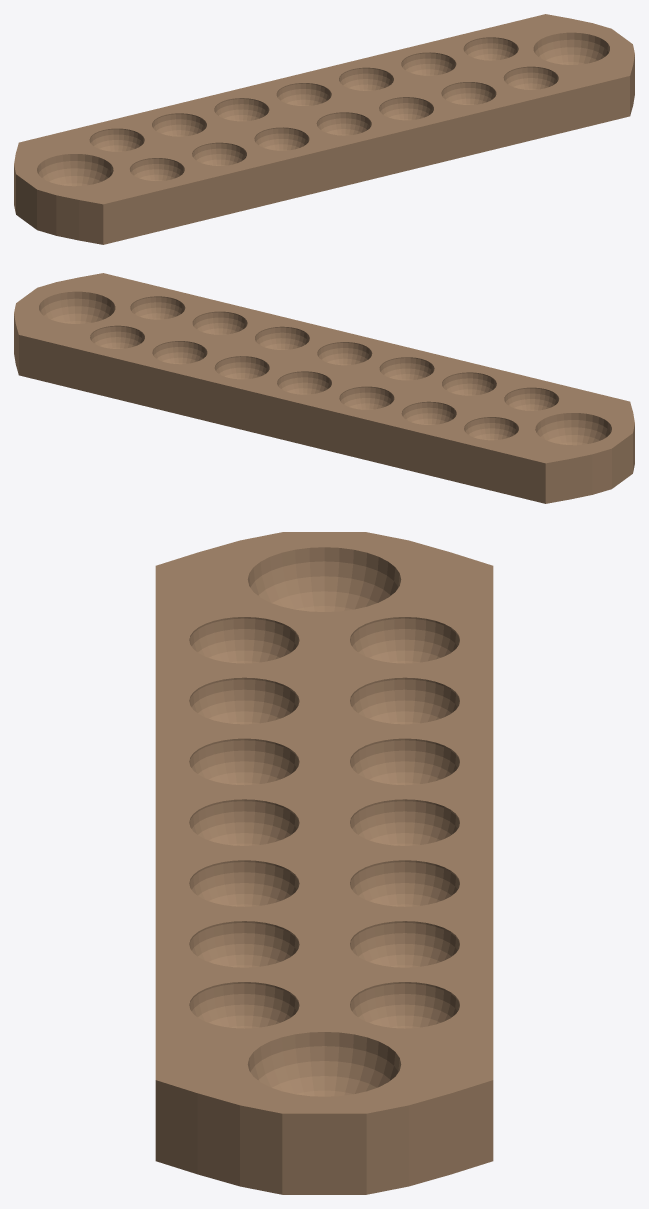
The model's file is congklak.fbx.
The picture shows the model from 3 angles, top to bottom: view 1: azimuth 30°, elevation 25°; view 2: azimuth 150°, elevation 25°; view 3: azimuth 270°, elevation 25°; orthographic projection. The views are drawn at different scales.
Parts seen in each view (by area): view 1: Cube; view 2: Cube; view 3: Cube.
Part boxes in pixels (left/top/right/bottom): Cube: left=14, top=14, right=634, bottom=244; Cube: left=14, top=273, right=634, bottom=503; Cube: left=155, top=532, right=493, bottom=1194.
Bounding box in the file's own units: 815 × 53.01 × 200.
